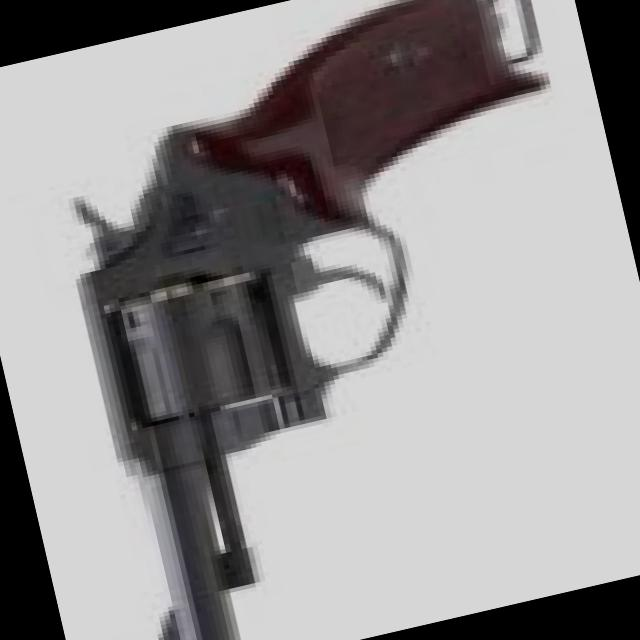handgun: (11, 0, 639, 639)
